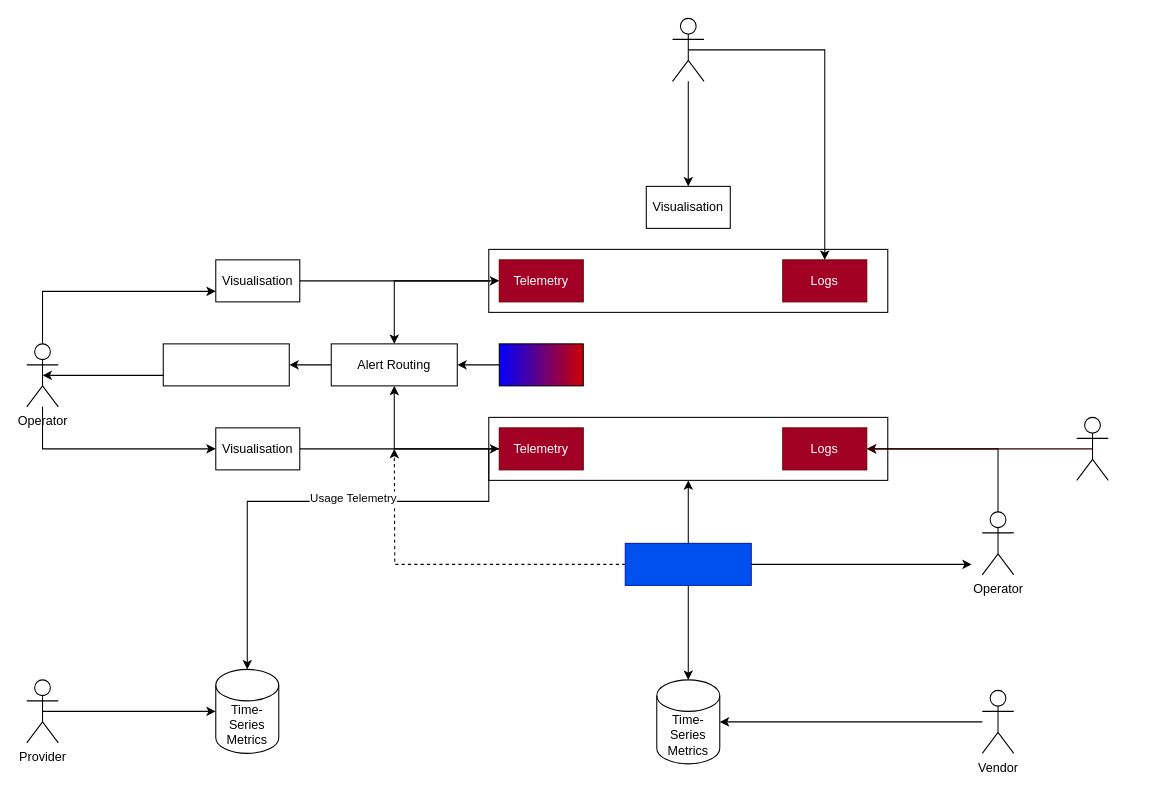
The diagram is 1172 pixels wide and 794 high, and some of its shapes have lost their labels. Here are the shapes that lost their labels. From the top down, the box of each, then its label:
(671, 17, 704, 81): Customer
(488, 248, 888, 312): Container
(162, 343, 289, 386): Provider specific alerting
(498, 343, 583, 386): State
(488, 416, 888, 480): Infrastructure
(1076, 416, 1108, 480): Integrator / Developer
(624, 542, 751, 585): Blackbox Monitoring
